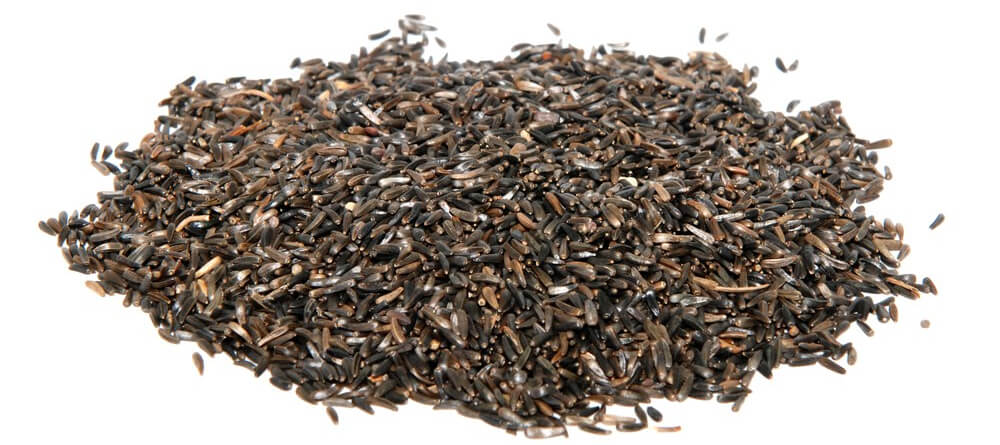seed: (35, 15, 950, 435)
